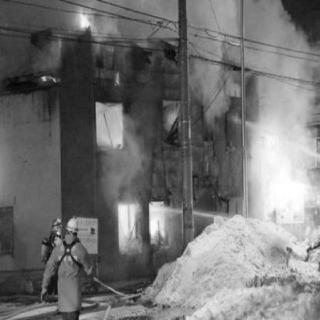Fire: (34, 9, 104, 82), (89, 91, 129, 157)
other: (257, 98, 290, 204)
